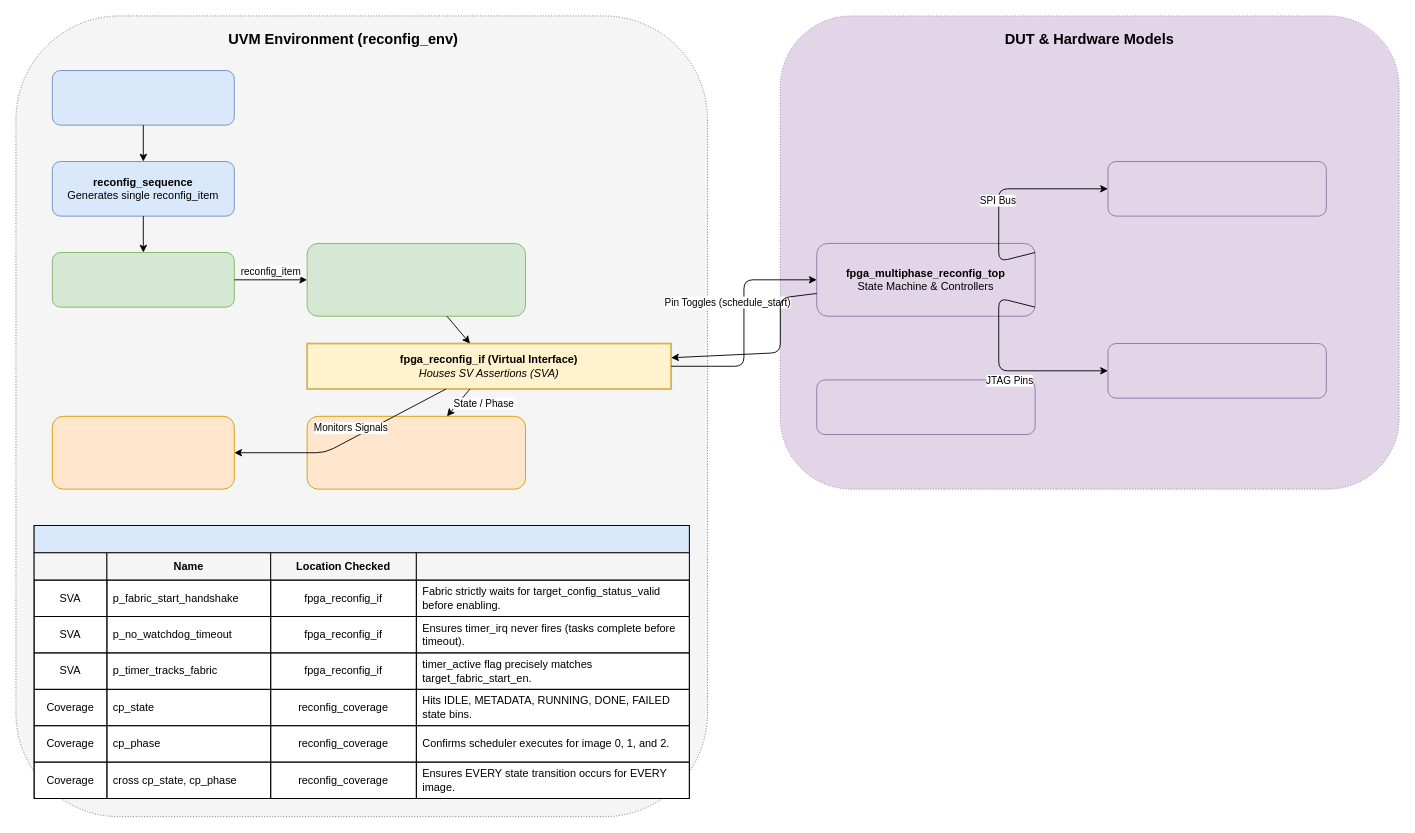
The diagram is 1415 pixels wide and 833 high, and some of its shapes have lost their labels. The shapes that lost their labels are listed below. From the top down, each one's centre as x and y in pixels, then its label:
At [142,97]: "base_test Controls reset & starts sequence".
At [1216,188]: "qspi_nor_multi_image_model Provides 12 Metadata words & 9-byte bitstreams".
At [142,279]: "uvm_sequencer Passes item to driver".
At [416,279]: "reconfig_driver Drives schedule_start Models Target Task Delay (45us/120us/15us)".
At [1216,370]: "jtag_target_model Shifts IDCODE & CFG_IN instructions".
At [925,407]: "Status Hardware Logic Asserts target_config_status_valid".
At [142,452]: "reconfig_scoreboard Cycle-by-cycle monitoring: AXI, QSPI, JTAG, Target Tasks".
At [416,452]: "reconfig_coverage Samples scheduler_state & phase_index @posedge clk (run_phase)".
At [361,539]: "Verification Checkpoints (Assertions & Coverage)".
At [70,566]: "Type".
At [552,566]: "Purpose / Description".
